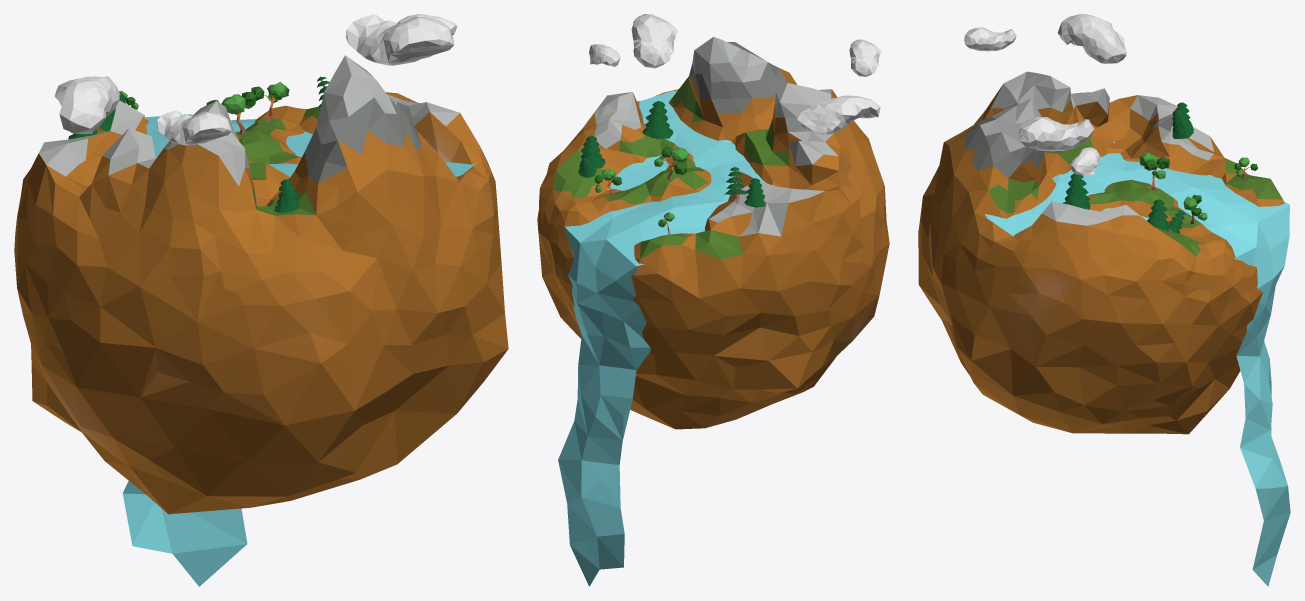
File: island.gltf
The picture shows the model from 3 angles, left to right: view 1: azimuth 30°, elevation 25°; view 2: azimuth 150°, elevation 25°; view 3: azimuth 270°, elevation 25°; orthographic projection. The views are drawn at different scales.
Parts seen in each view (by area): view 1: Icosphere, Plane, Icosphere.001, Icosphere.004, Icosphere.003, Tree.001; view 2: Icosphere, Plane, Icosphere.004, Icosphere.001, Icosphere.003, tree2.001, Tree.001, Icosphere.002, tree2.003; view 3: Icosphere, Plane, Icosphere.004, Icosphere.001, Icosphere.003, tree2.001, Icosphere.002, Tree.001, tree2.005.
Part boxes in pixels (x1,y1,x2,y2): Icosphere: (14,55,508,514); Plane: (122,114,475,586); Icosphere.001: (346,14,454,65); Icosphere.004: (54,76,120,134); Icosphere.003: (157,110,231,145); Tree.001: (206,92,256,134); Icosphere: (537,36,889,429); Plane: (558,91,766,586); Icosphere.004: (797,95,880,134); Icosphere.001: (631,14,677,68); Icosphere.003: (849,39,881,76); tree2.001: (642,101,673,139); Tree.001: (654,147,688,180); Icosphere.002: (589,44,620,66); tree2.003: (580,136,605,168); Icosphere: (918,71,1284,434); Plane: (985,142,1290,586); Icosphere.004: (1058,14,1126,63); Icosphere.001: (1019,117,1094,151); Icosphere.003: (964,27,1016,51); tree2.001: (1062,173,1090,209); Icosphere.002: (1070,147,1100,175); Tree.001: (1140,152,1169,190); tree2.005: (1172,109,1193,138).
Bounding box in the file's own units: 0.6778 × 1.01 × 0.6915.
